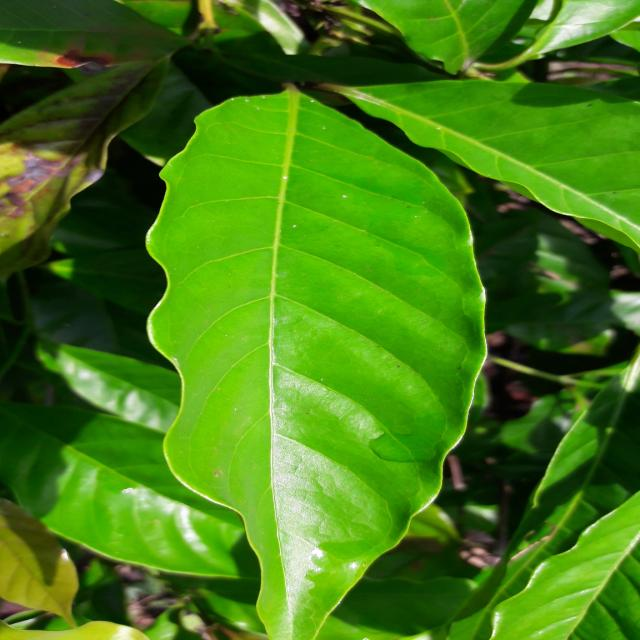Sanas: (143, 88, 487, 640)
